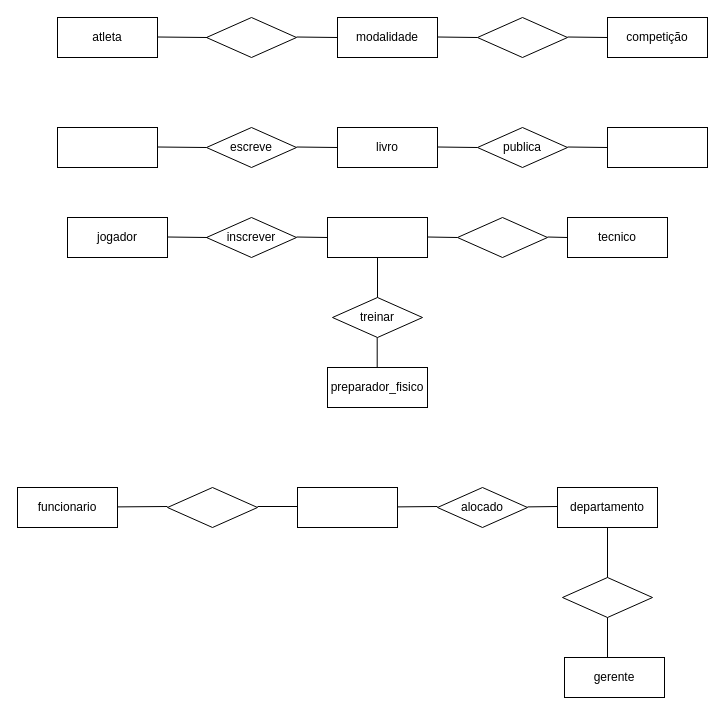
This 725x715 diagram has some shape labels left out. The centre of each missing label's shape, as x and y in pixels:
"autor" goes at [107,147].
"cadastrado" goes at [212,507].
"cargo" goes at [347,507].
"coordena" goes at [607,597].
"coordenas" goes at [502,237].
"editora" goes at [657,147].
"inscrito" goes at [251,37].
"time" goes at [377,237].
